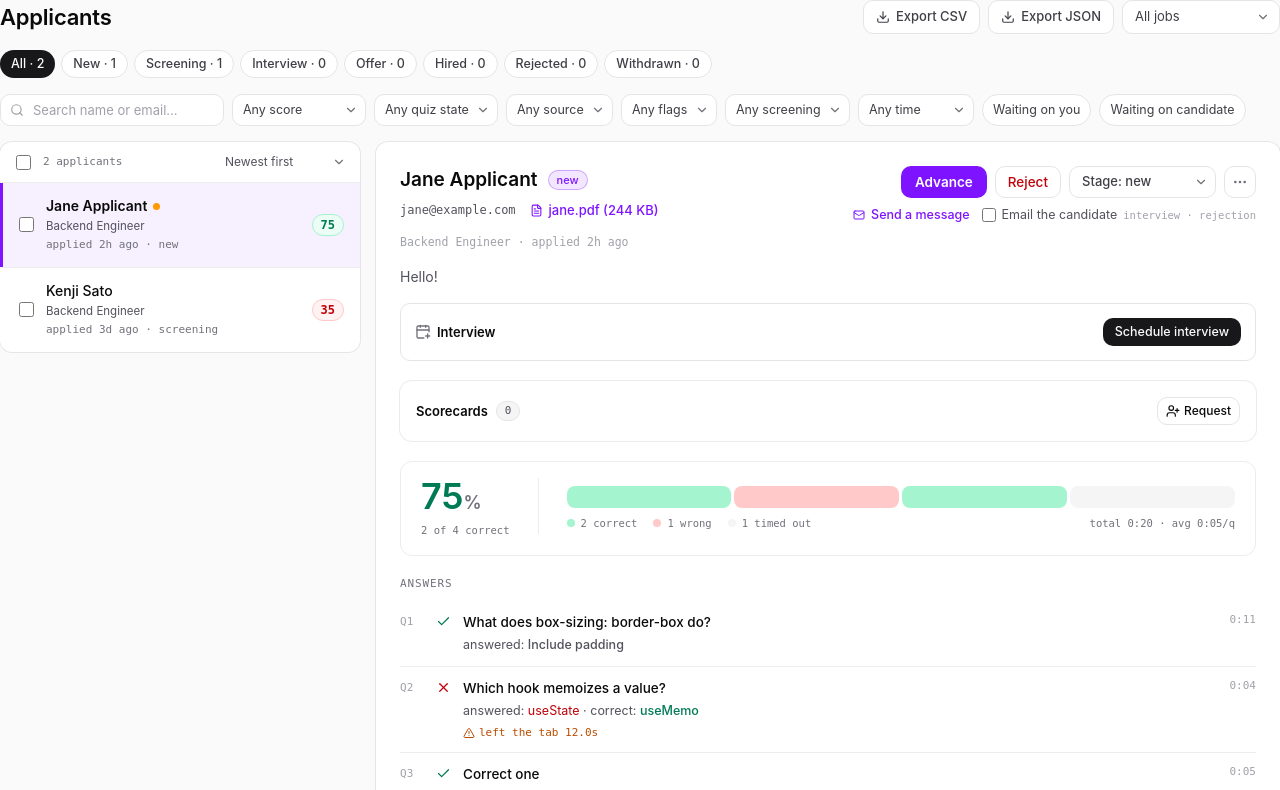
Test case: ApplicantsPage › Email-the-candidate checkbox previews the rejection before sending
The width and height of the screenshot is (1280, 790).
Expected: the heading "Jane Applicant" is shown, [400, 166, 538, 194]
Click the checkbox labelled "Email the candidate interview · rejection" at point(989, 215), box [982, 208, 996, 222]
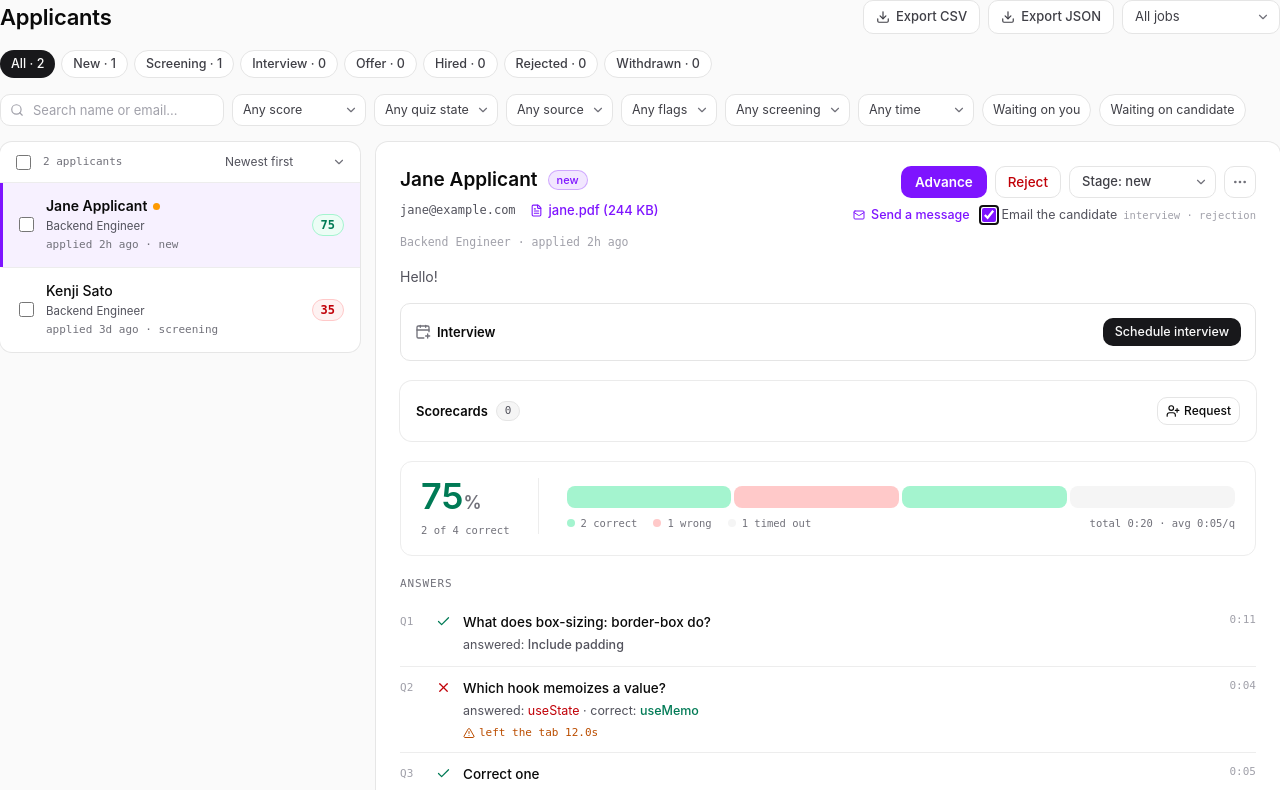
Click the button "Reject" at point(1028, 182), box [995, 166, 1061, 198]
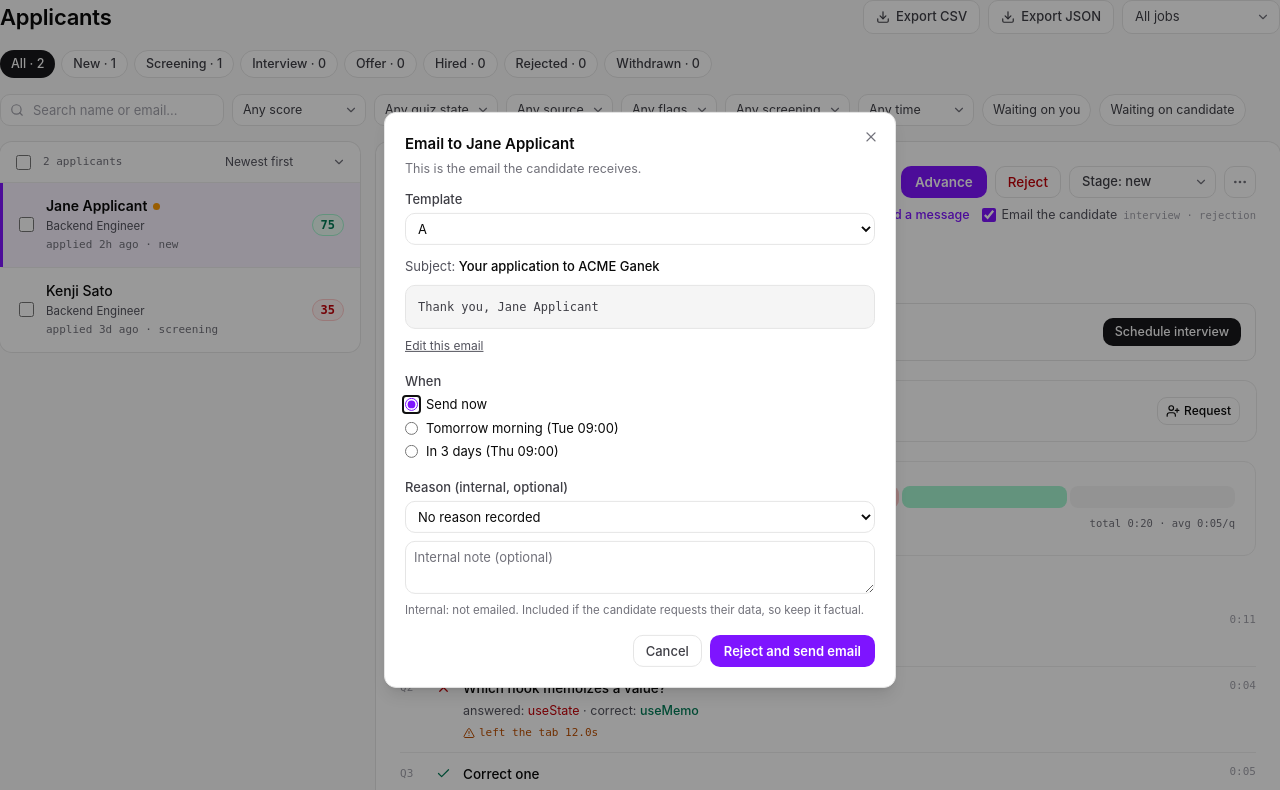
Expected: the text "Your application to ACME Ganek" is shown, [459, 258, 660, 274]
Click the button "Reject and send email" at point(792, 651), box [710, 635, 875, 667]
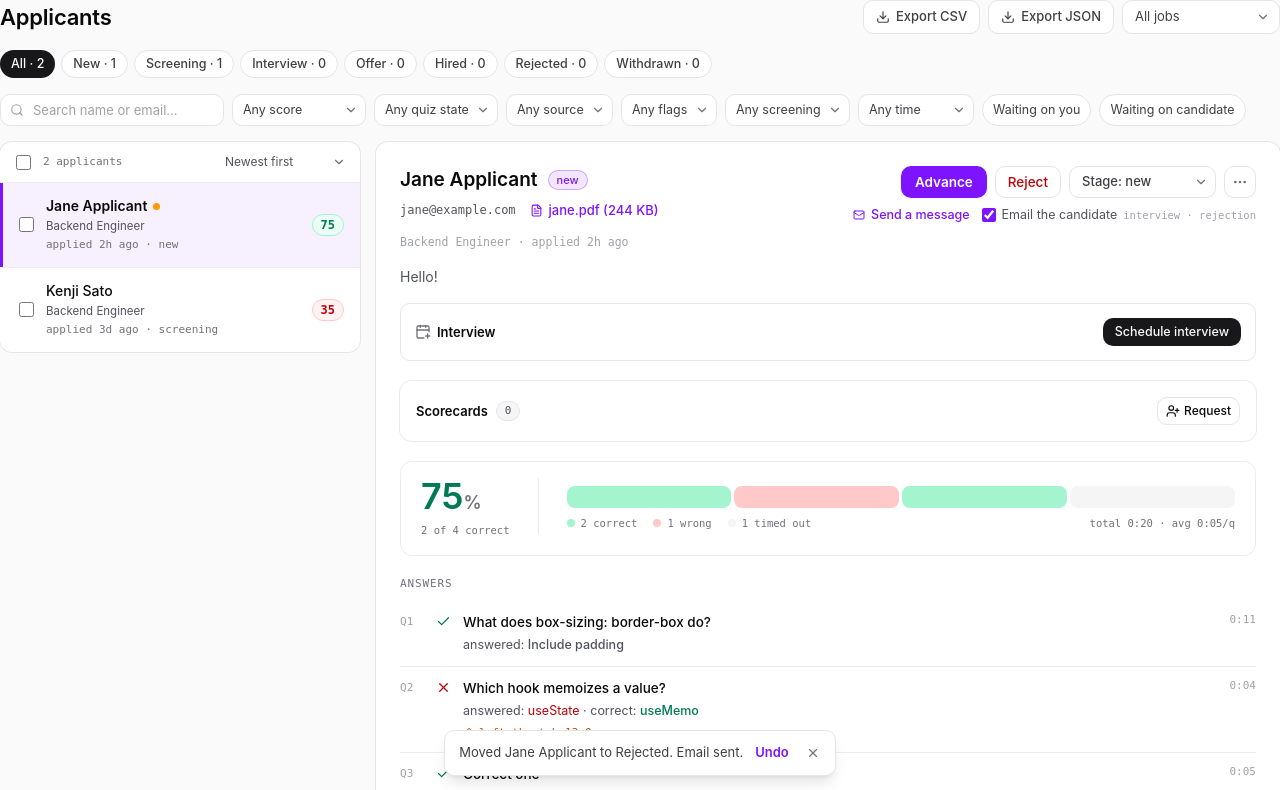
Expected: the message shows "Moved Jane Applicant to Rejected. Email sent.", [459, 744, 743, 760]
